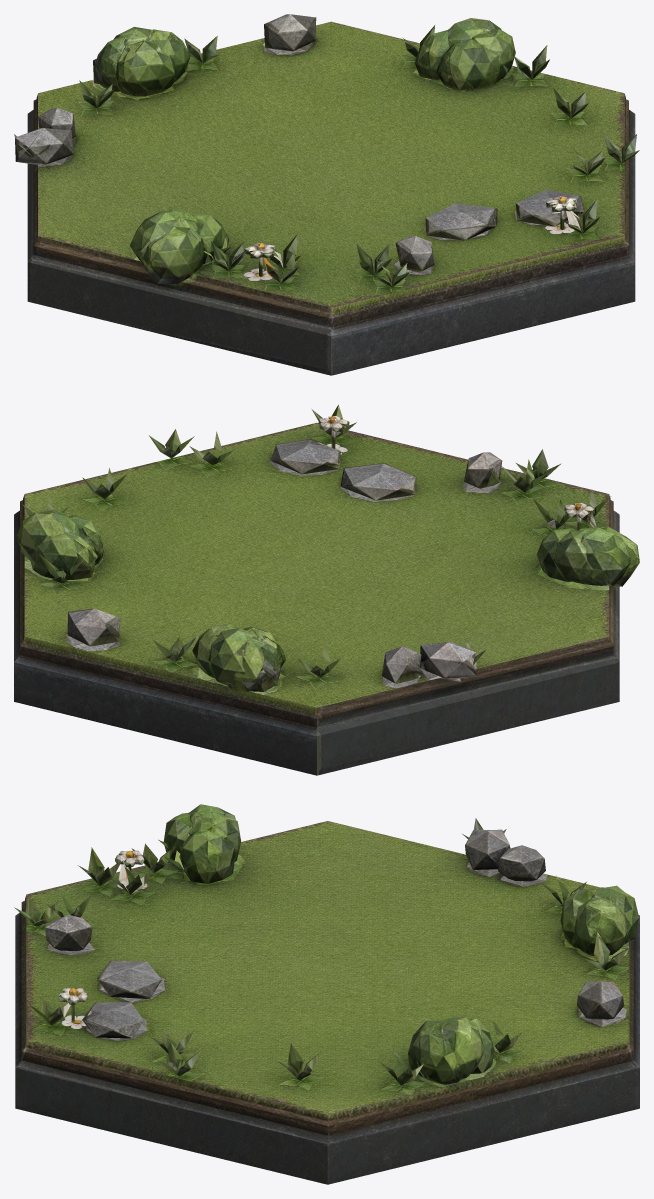
Rendered from hex_meadow_character.glb.
The picture shows the model from 3 angles, top to bottom: view 1: azimuth 30°, elevation 25°; view 2: azimuth 150°, elevation 25°; view 3: azimuth 270°, elevation 25°; orthographic projection. The views are drawn at different scales.
Visible parts, largest first — view 1: Hex meadow, Hex stone foundation, Hex earth rim, Leaf cluster.009, Leaf cluster.003, Leaf cluster.006, Path stepping stone, Meadow stone.002, Meadow stone.004, Path stepping stone.001, Leaf cluster.001, Meadow stone.003 (+7 smaller); view 2: Hex meadow, Hex stone foundation, Hex earth rim, Path stepping stone, Leaf cluster.007, Leaf cluster.001, Path stepping stone.001, Meadow stone.002, Leaf cluster.010, Meadow stone.004, Leaf cluster.004, Leaf cluster.008 (+8 smaller); view 3: Hex meadow, Hex stone foundation, Hex earth rim, Leaf cluster, Leaf cluster.011, Path stepping stone, Leaf cluster.005, Path stepping stone.001, Leaf cluster.004, Meadow stone.004, Meadow stone.002, Meadow stone.001 (+6 smaller).
Boxes of the visible parts, box(x1,y1,x2,y2) form: Hex meadow: box(36, 21, 625, 313); Hex stone foundation: box(27, 110, 635, 375); Hex earth rim: box(33, 99, 628, 327); Leaf cluster.009: box(115, 40, 174, 96); Leaf cluster.003: box(142, 228, 205, 284); Leaf cluster.006: box(436, 39, 501, 90); Path stepping stone: box(425, 203, 497, 240); Meadow stone.002: box(15, 128, 73, 164); Meadow stone.004: box(264, 14, 316, 51); Path stepping stone.001: box(515, 189, 583, 226); Leaf cluster.001: box(129, 210, 185, 264); Meadow stone.003: box(395, 235, 434, 272); Hex meadow: box(23, 422, 610, 713); Hex stone foundation: box(14, 510, 619, 775); Hex earth rim: box(20, 500, 613, 727); Path stepping stone: box(340, 463, 416, 500); Leaf cluster.007: box(29, 532, 95, 579); Leaf cluster.001: box(578, 527, 631, 586); Path stepping stone.001: box(271, 439, 340, 474); Meadow stone.002: box(420, 642, 476, 679); Leaf cluster.010: box(208, 628, 258, 685); Meadow stone.004: box(67, 608, 120, 646); Leaf cluster.004: box(16, 511, 79, 560); Leaf cluster.008: box(228, 637, 280, 691); Hex meadow: box(25, 821, 630, 1120); Hex stone foundation: box(15, 912, 639, 1184); Hex earth rim: box(21, 900, 633, 1135); Leaf cluster: box(179, 831, 235, 883); Leaf cluster.011: box(575, 898, 627, 956); Path stepping stone: box(97, 960, 161, 999); Leaf cluster.005: box(415, 1024, 463, 1084); Path stepping stone.001: box(82, 1002, 143, 1038); Leaf cluster.004: box(439, 1016, 484, 1078); Meadow stone.004: box(577, 981, 624, 1019); Meadow stone.002: box(465, 829, 510, 869); Meadow stone.001: box(498, 845, 545, 881).
Bounding box in the file's own units: 3.7 × 0.6511 × 3.21.
5 materials, 5 textured.
